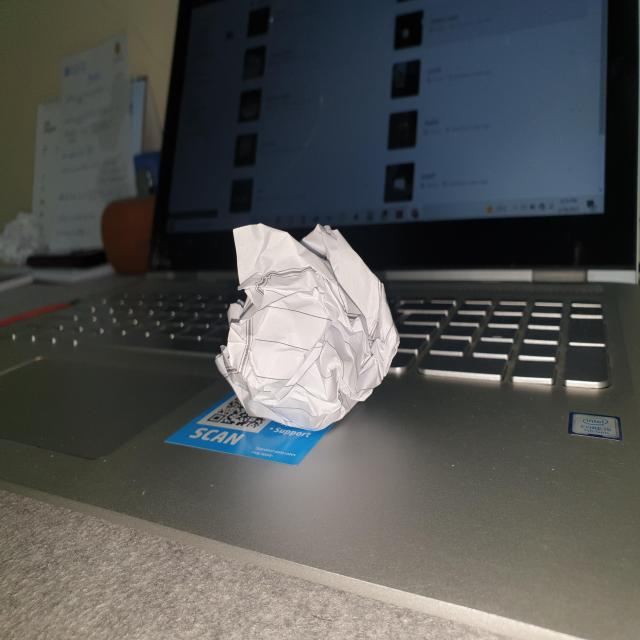paper: (203, 205, 410, 445)
